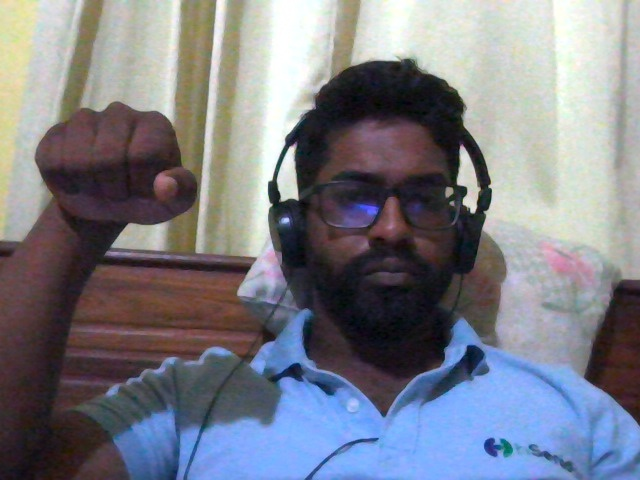Yes: (4, 68, 234, 261)
